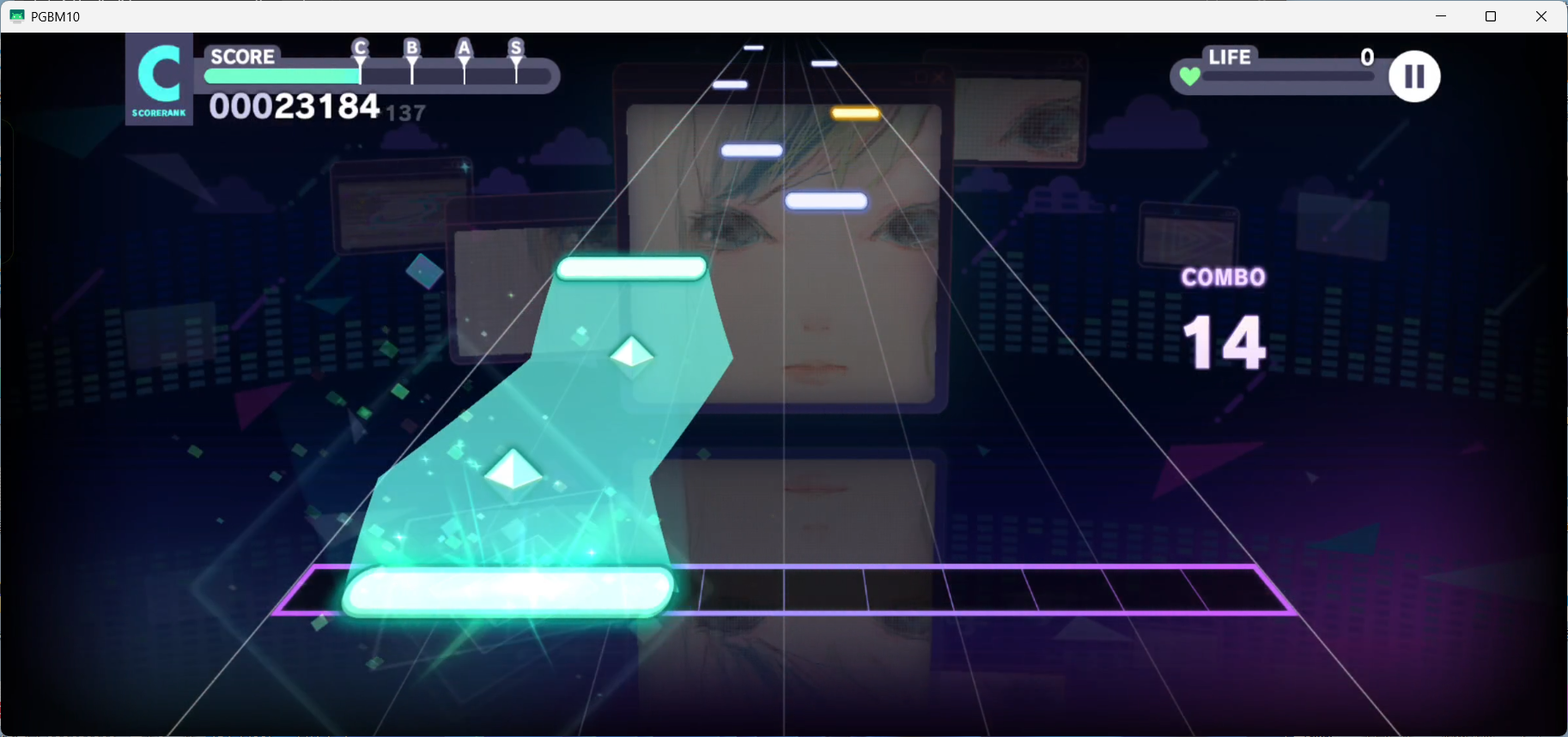hold: (349, 279, 732, 570)
tap: (341, 567, 675, 619), (556, 256, 707, 280), (785, 192, 867, 210), (720, 143, 782, 158), (832, 107, 878, 118), (712, 81, 747, 89), (811, 59, 837, 66), (744, 45, 763, 50)
